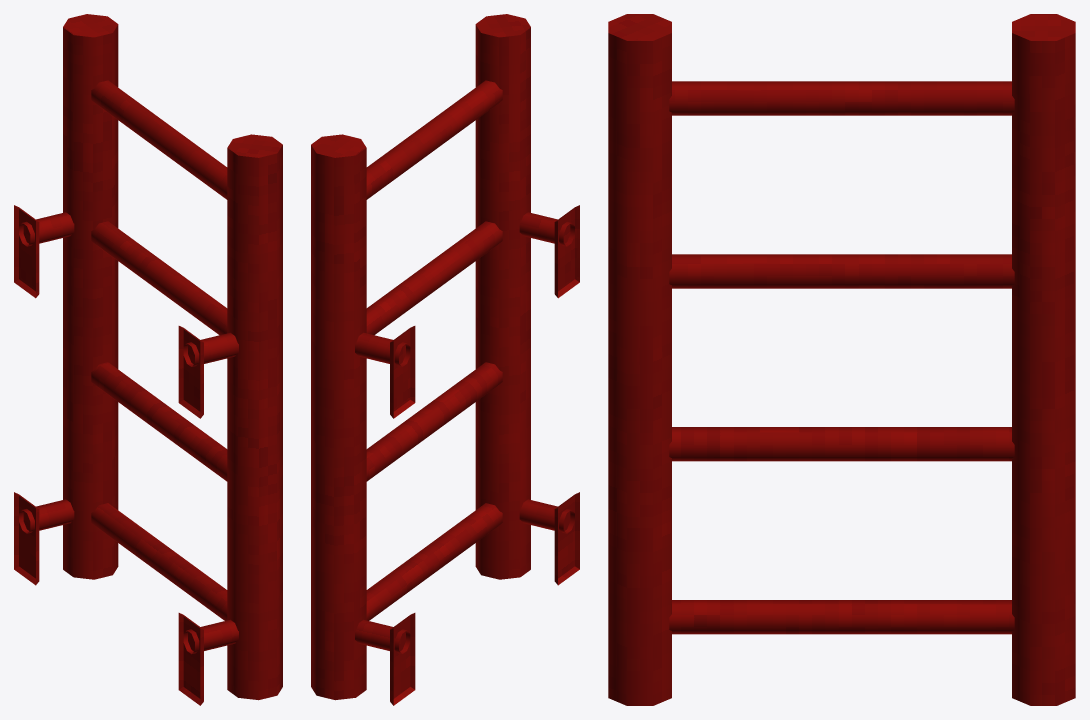
Rendered from red_ladder.obj.
3 views of the same model, side by side, from view 1: azimuth 30°, elevation 25°; view 2: azimuth 150°, elevation 25°; view 3: azimuth 270°, elevation 25° (orthographic). The views are drawn at different scales.
Parts seen in each view (by area): view 1: Cylinder; view 2: Cylinder; view 3: Cylinder.
Boxes of the visible parts, x1,y1,x2,y2 form: Cylinder: (14,14,282,705); Cylinder: (311,14,579,705); Cylinder: (608,14,1075,705).
Bounding box in the file's own units: 0.1705 × 1 × 0.6366.
